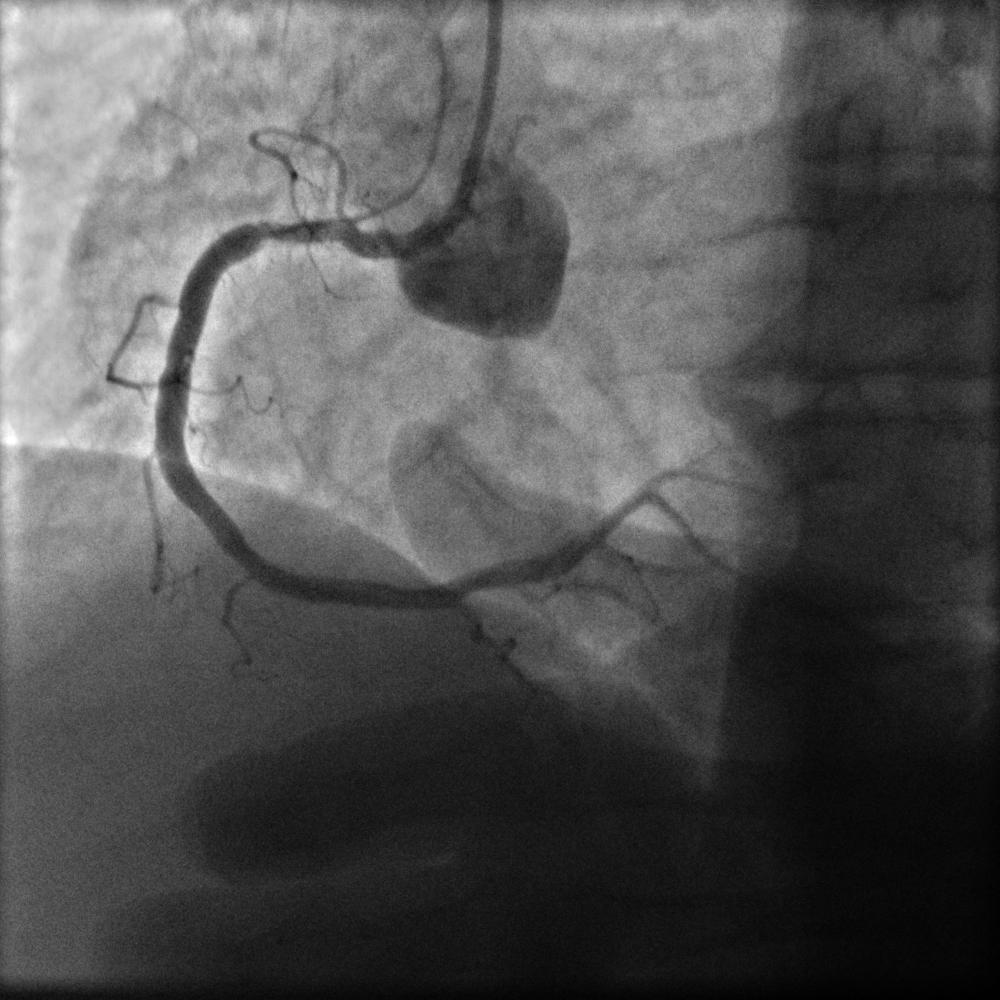Stenosis: (249, 205, 372, 258)
